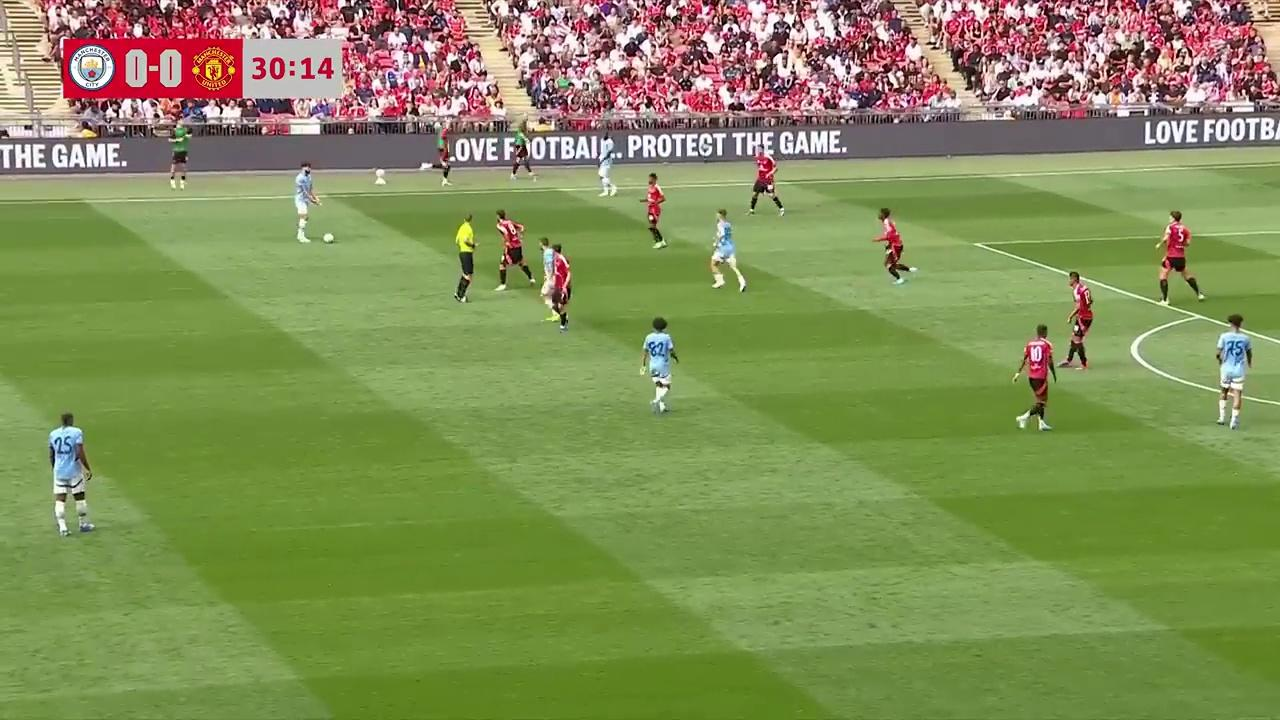ball: (322, 229, 335, 244)
player: (48, 412, 94, 538), (1012, 325, 1057, 431), (1154, 210, 1202, 304), (1215, 316, 1253, 429), (639, 317, 679, 414), (708, 209, 747, 291), (494, 210, 533, 289), (1062, 269, 1091, 371), (873, 208, 907, 282), (544, 241, 571, 333), (747, 149, 784, 216), (538, 239, 563, 328), (642, 173, 666, 249), (293, 168, 312, 242), (597, 130, 617, 197)
referee: (454, 214, 478, 303)
